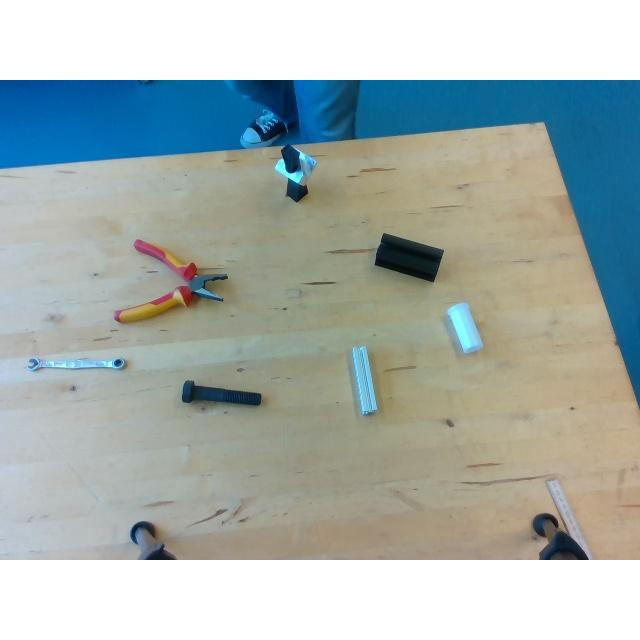F20_20_G: (352, 345, 376, 413)
M20_100: (182, 381, 260, 404)
S40_40_B: (373, 232, 442, 280)
Spacer: (446, 302, 482, 352)
Wrench: (25, 358, 125, 370)
